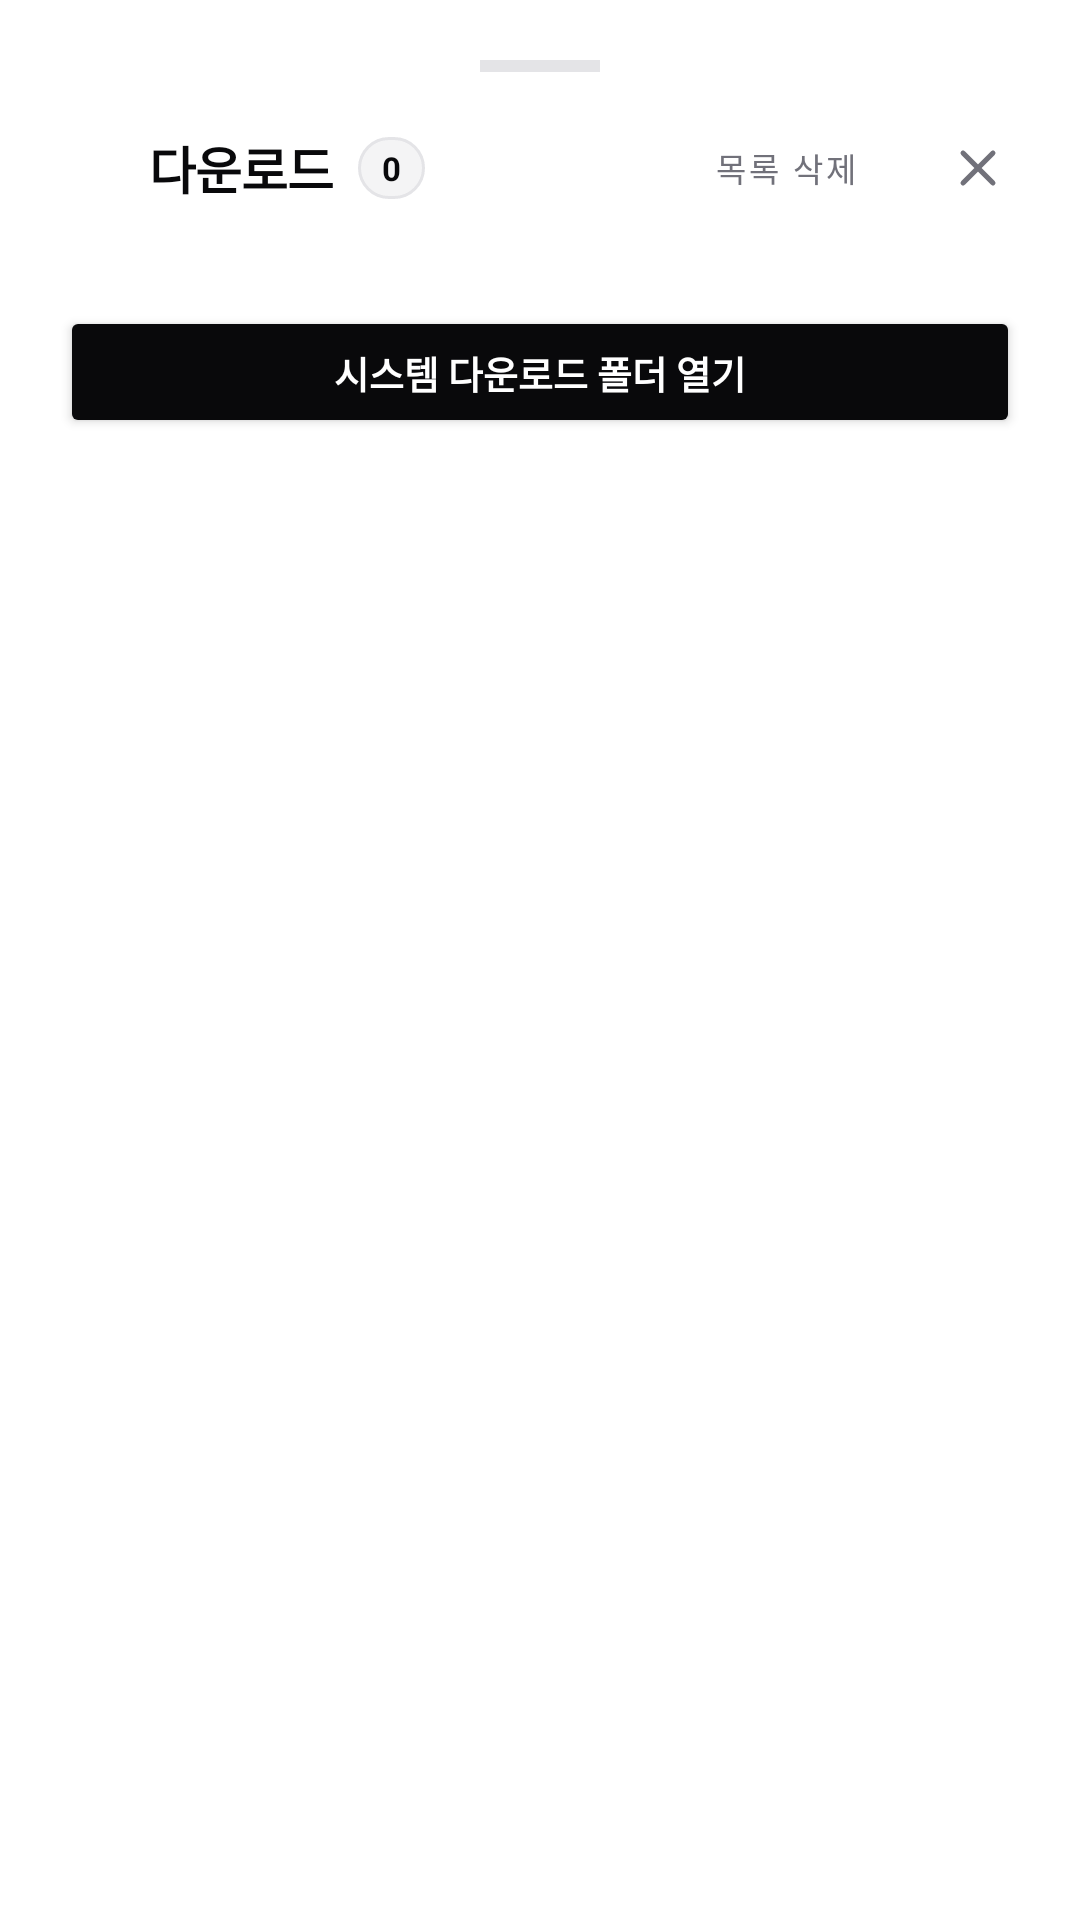

Screen size 1080 x 1920. Icon name, then its box in pixels as (x1, y1, x2, y2):
Close: (960, 150, 996, 186)
